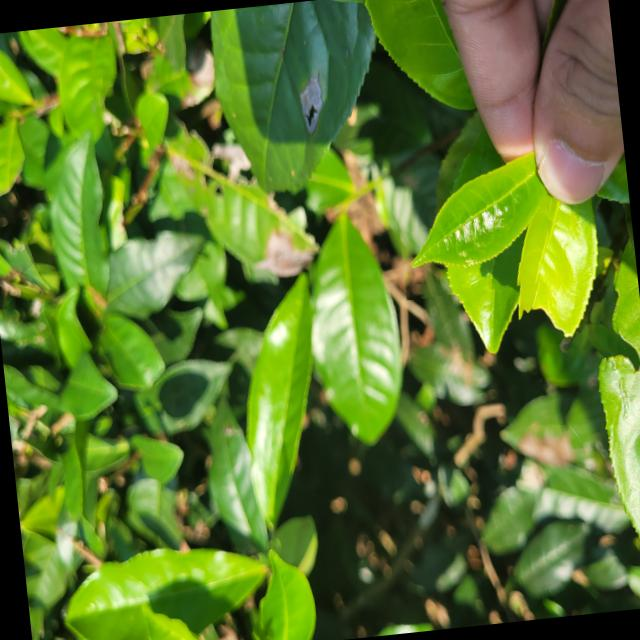Catagory A(1-2 days): (392, 148, 556, 299)
